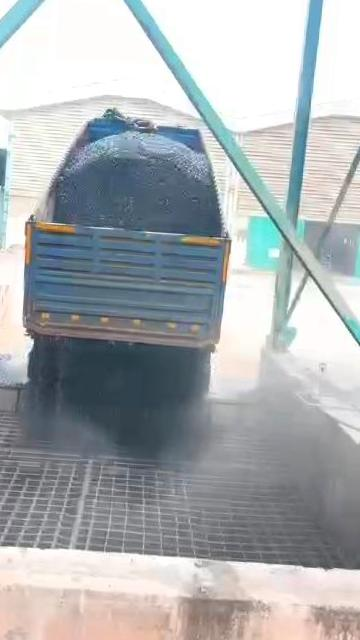gravel: (23, 336, 210, 449), (53, 130, 221, 235), (0, 351, 26, 386)
